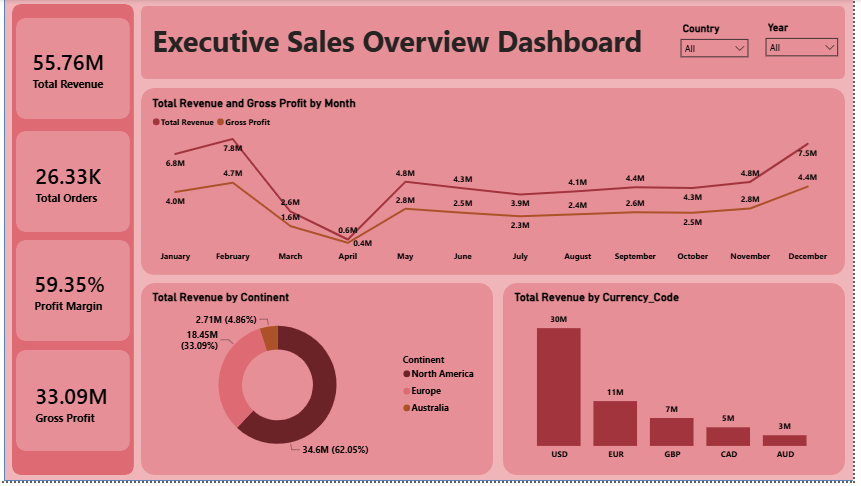

Layout of this report page (visuals, bound fields, positions):
{"tool":"powerbi","page":{"name":"Executive Sales Overview ","canvas":[1280,720],"ordinal":4},"visuals":[{"type":"shape","box":[10.5,0,1269.7,720],"z":0},{"type":"shape","box":[215.1,10.5,1051.6,109],"z":1000},{"type":"shape","box":[22.4,7.5,182.2,703.6],"z":2000},{"type":"shape","box":[215.1,132.9,1051.6,279.3],"z":3000},{"type":"shape","box":[755.9,424.2,510.9,286.8],"z":4000},{"type":"shape","box":[215.1,424.2,525.8,286.8],"z":5000},{"type":"lineChart","fields":{"Y":["Sales.Total Revenue","Sales.Gross Profit"],"Category":["Sales.Order_Date.Variation.Date Hierarchy.Month"]},"box":[227.1,144.9,1023.2,256.9],"z":6000},{"type":"donutChart","fields":{"Category":["customers.Continent"],"Y":["Sales.Total Revenue"]},"box":[227.1,434.7,498.9,264.4],"z":7000},{"type":"columnChart","fields":{"Category":["Sales.Currency_Code"],"Y":["Sales.Total Revenue"]},"box":[767.8,434.7,482.5,262.9],"z":8000},{"type":"shape","box":[28.4,28.4,170.3,150.9],"z":9000},{"type":"shape","box":[28.4,197.2,170.3,150.9],"z":10000},{"type":"shape","box":[28.4,360,170.3,150.9],"z":11000},{"type":"shape","box":[28.4,524.3,170.3,150.9],"z":12000},{"type":"cardVisual","fields":{"Data":["Sales.Total Revenue"]},"box":[23.9,41.8,180.7,124],"z":13000},{"type":"cardVisual","fields":{"Data":["Sales.Total Orders"]},"box":[28.4,210.6,179.3,125.5],"z":14000},{"type":"cardVisual","fields":{"Data":["Sales.Profit Margin"]},"box":[26.9,377.9,174.8,115],"z":15000},{"type":"cardVisual","fields":{"Data":["Sales.Gross Profit"]},"box":[28.4,542.2,170.3,119.5],"z":16000},{"type":"slicer","fields":{"Values":["Sales.Delivery_Date.Variation.Date Hierarchy.Year"]},"box":[1138.3,28.4,128.5,76.2],"z":17000},{"type":"slicer","fields":{"Values":["customers.Country"]},"box":[1011.3,29.9,121,71.7],"z":18000},{"type":"textbox","box":[227.1,28.4,761.8,76.2],"z":19000}]}

Visuals, with their boxes in screenshot pixels (x1, y1, x2, y2), scaled from the page's 1280x720 canvas onto the 861x486 screenshot:
shape: <box>7,0,860,485</box>
shape: <box>145,7,852,81</box>
shape: <box>15,5,138,480</box>
shape: <box>145,90,852,278</box>
shape: <box>508,286,852,480</box>
shape: <box>145,286,498,480</box>
lineChart - Sales.Total Revenue x Sales.Gross Profit: <box>153,98,841,271</box>
donutChart - customers.Continent x Sales.Total Revenue: <box>153,293,488,472</box>
columnChart - Sales.Currency_Code x Sales.Total Revenue: <box>516,293,841,471</box>
shape: <box>19,19,134,121</box>
shape: <box>19,133,134,235</box>
shape: <box>19,243,134,345</box>
shape: <box>19,354,134,456</box>
cardVisual - Sales.Total Revenue: <box>16,28,138,112</box>
cardVisual - Sales.Total Orders: <box>19,142,140,227</box>
cardVisual - Sales.Profit Margin: <box>18,255,136,333</box>
cardVisual - Sales.Gross Profit: <box>19,366,134,447</box>
slicer - Sales.Delivery_Date.Variation.Date Hierarchy.Year: <box>766,19,852,71</box>
slicer - customers.Country: <box>680,20,762,69</box>
textbox: <box>153,19,665,71</box>
